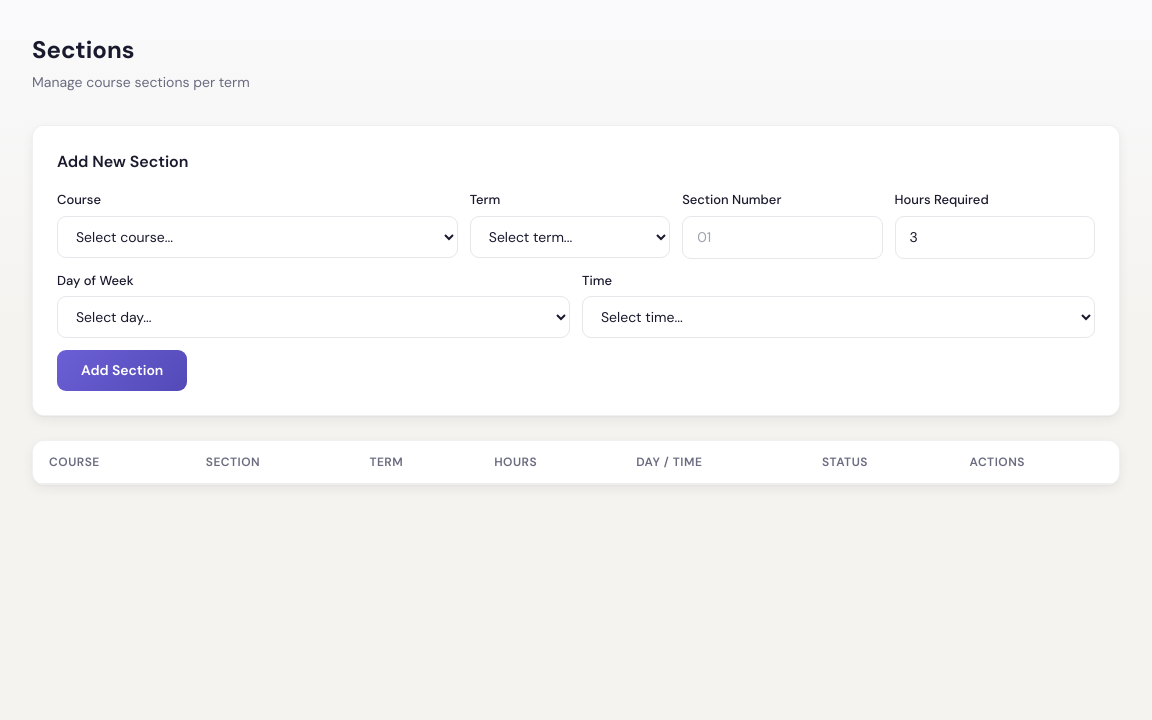
Test: AdminSections › rejects hours outside the 1-20 range
Expected: the button "Add Section" is shown, [57,350,187,391]
Replace the text in the number field labelled "Hours Required" with "25": (995, 237) [895,216,1095,258]
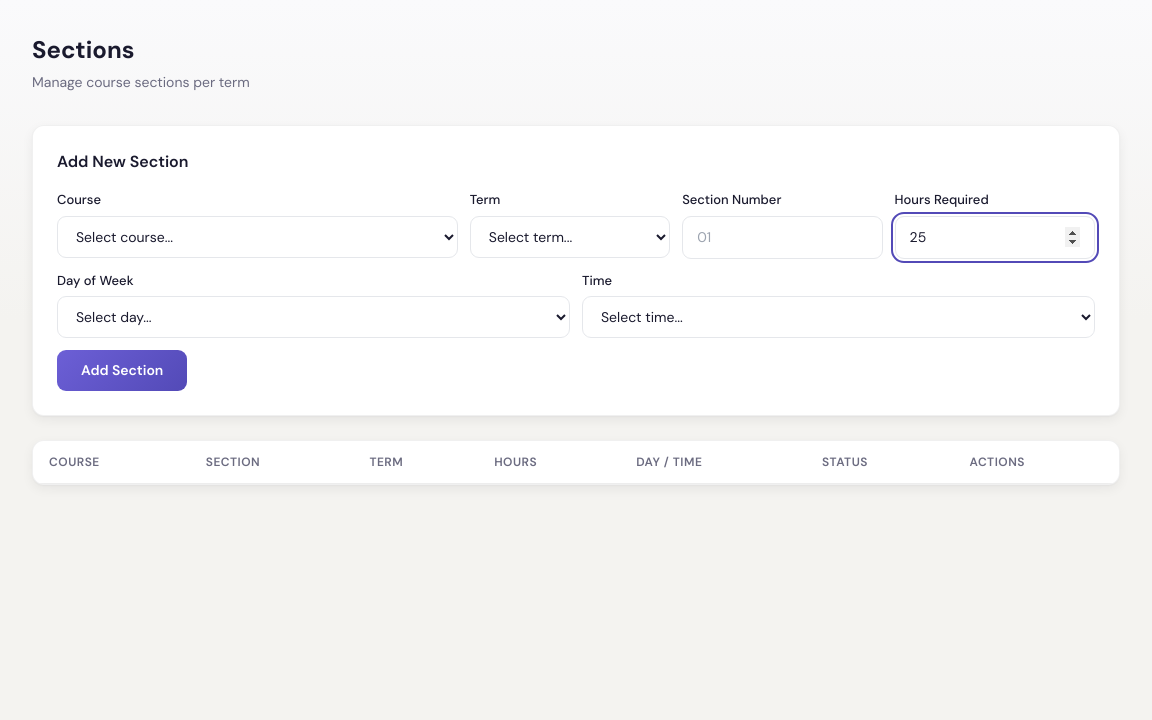
Submit the form, box [57,190,1095,391]
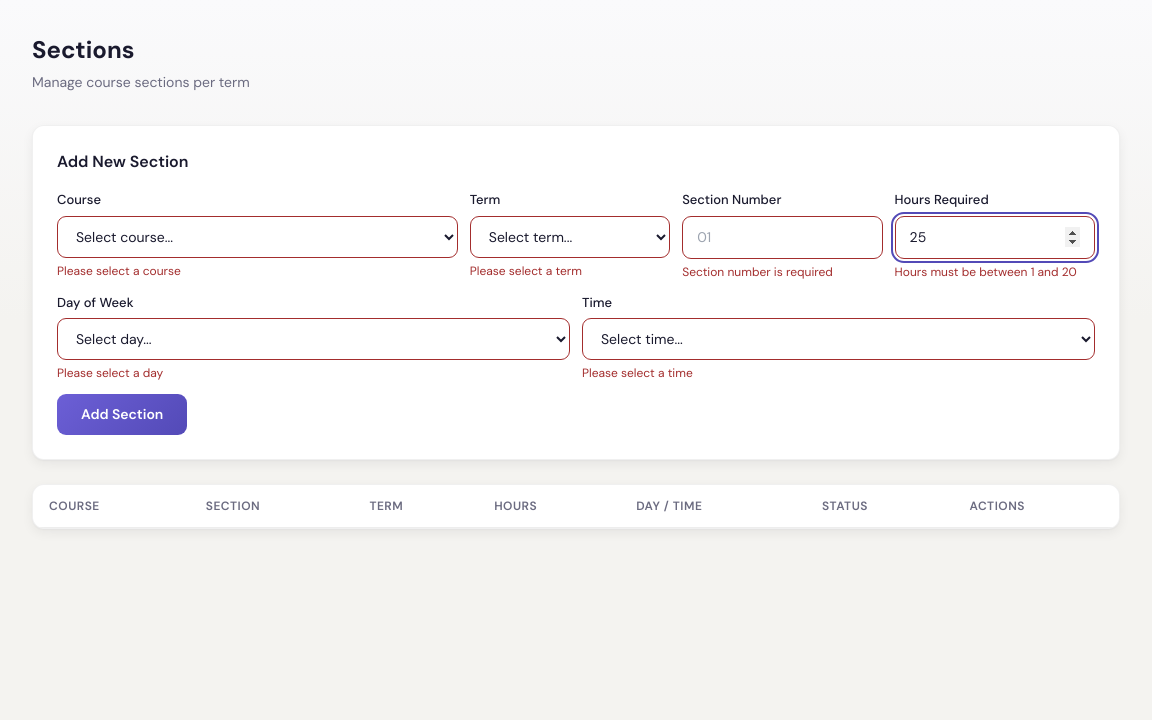
Expected: the text "Hours must be between 1 and 20" is shown, [895,262,1095,280]
